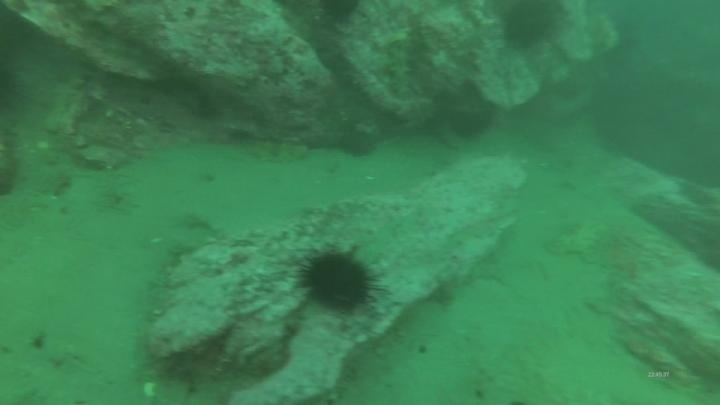echinus: (295, 243, 382, 316), (497, 1, 567, 51), (317, 0, 364, 25)
holothurian: (40, 64, 91, 138), (381, 21, 423, 103), (236, 134, 313, 167)
